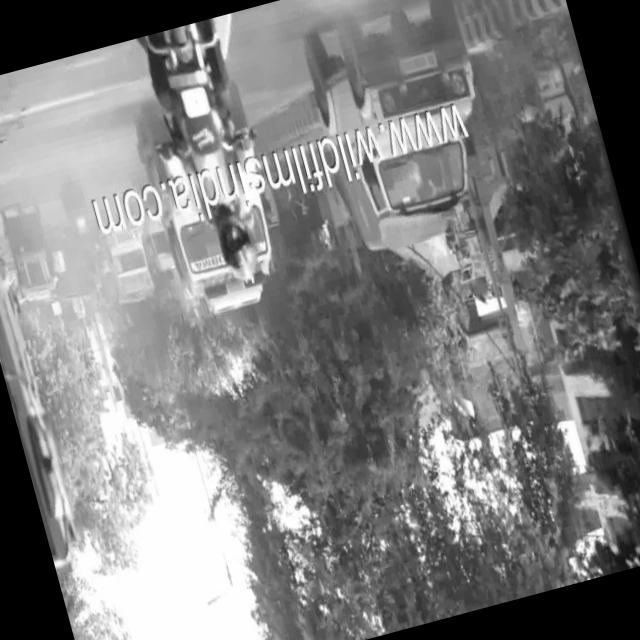ambulance: (162, 197, 270, 313)
